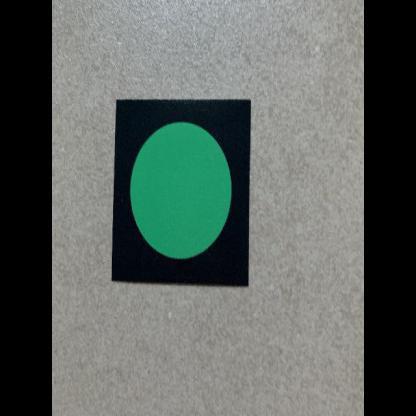go: (111, 97, 252, 289)
